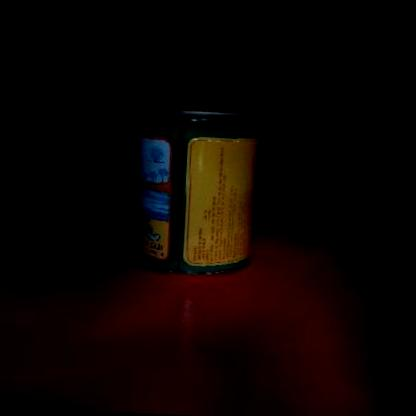alumunium_can: (122, 104, 264, 280)
